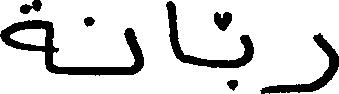X: (0, 0, 53, 77), (281, 28, 338, 93), (124, 23, 142, 79), (165, 0, 180, 65), (240, 30, 252, 71)
